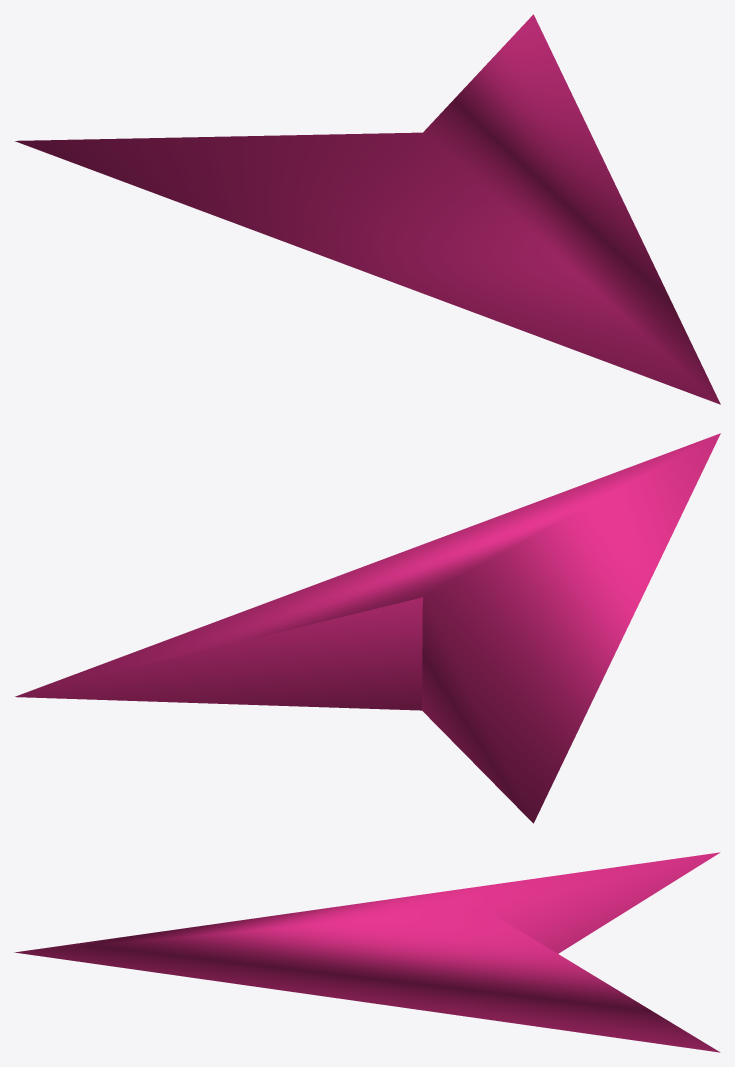
File: pinkship.glb
3 renders of one model, top to bottom at view 1: azimuth 30°, elevation 25°; view 2: azimuth 150°, elevation 25°; view 3: azimuth 270°, elevation 25°, orthographic. The views are drawn at different scales.
Parts seen in each view (by area): view 1: Extrude_01CE73D8; view 2: Extrude_01CE73D8; view 3: Extrude_01CE73D8.
Boxes of the visible parts, x1,y1,x2,y2 form: Extrude_01CE73D8: [15, 14, 720, 404]; Extrude_01CE73D8: [15, 433, 720, 823]; Extrude_01CE73D8: [14, 852, 720, 1052].
Size of the model in its own units: 2.39 by 0.491 by 3.57.
